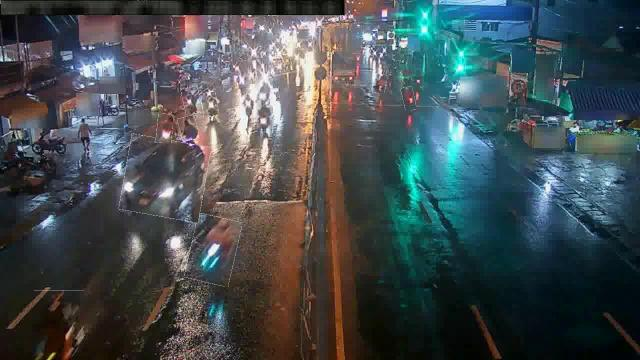Bike: (188, 215, 240, 285), (34, 290, 84, 360), (182, 86, 202, 114), (255, 104, 273, 134), (178, 116, 198, 140), (257, 78, 273, 108), (157, 114, 173, 142), (202, 92, 218, 116), (402, 87, 416, 111), (240, 88, 252, 114), (373, 74, 387, 94), (236, 70, 247, 90)
Car: (122, 137, 208, 219)
